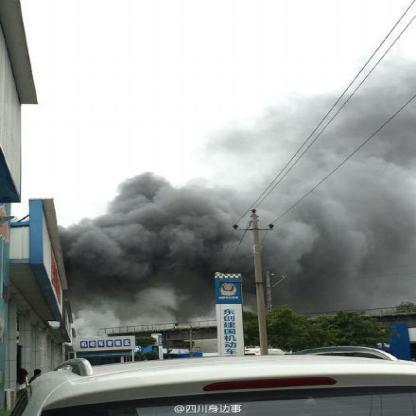smoke: (272, 210, 410, 274), (135, 172, 214, 276), (322, 78, 414, 159), (60, 216, 138, 294), (230, 150, 314, 203), (326, 160, 406, 208)
